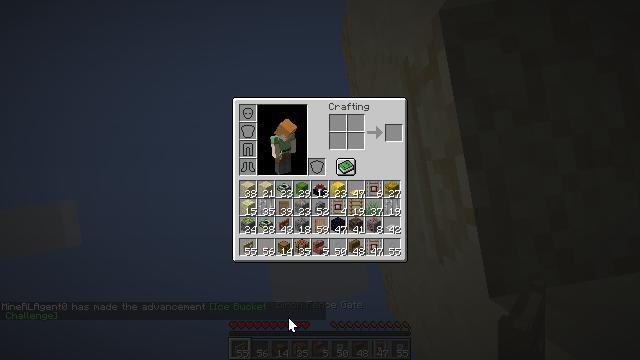cursor: (317, 288, 333, 298)
